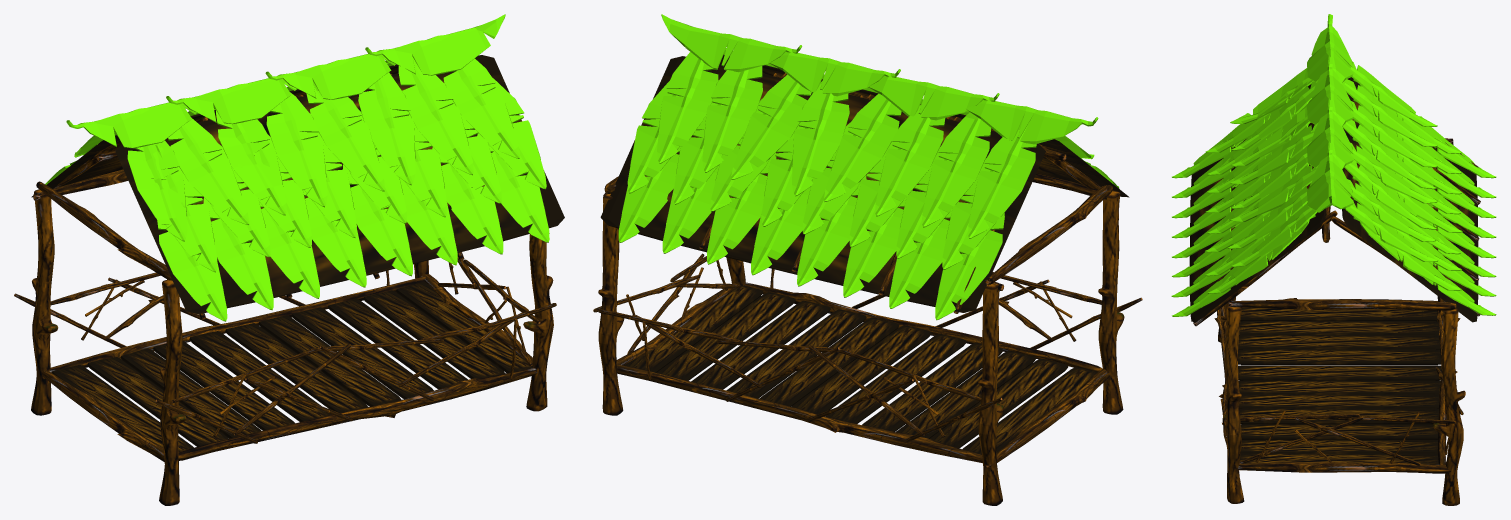
Rendered from Haus.fbx.
3 views of the same model, side by side, from view 1: azimuth 30°, elevation 25°; view 2: azimuth 150°, elevation 25°; view 3: azimuth 270°, elevation 25° (orthographic). The views are drawn at different scales.
Visible parts, largest first — view 1: Cylinder.056, Cylinder.026, Cube.010, Cube.047; view 2: Cylinder.056, Cylinder.026, Cube.010, Cube.047; view 3: Cylinder.056, Cylinder.026, Cube.010, Cube.047.
Part boxes in pixels (x1,y1,x2,y2): Cylinder.056: (45, 14, 549, 321); Cylinder.026: (31, 55, 564, 451); Cube.010: (14, 74, 556, 461); Cube.047: (31, 189, 553, 505); Cylinder.056: (618, 14, 1119, 320); Cylinder.026: (600, 49, 1129, 454); Cube.010: (593, 73, 1142, 468); Cube.047: (598, 190, 1124, 505); Cylinder.056: (1171, 14, 1496, 316); Cylinder.026: (1189, 77, 1478, 464); Cube.010: (1193, 138, 1480, 473); Cube.047: (1218, 144, 1465, 505).
Size of the model in its own units: 2217 by 1689 by 1612.
